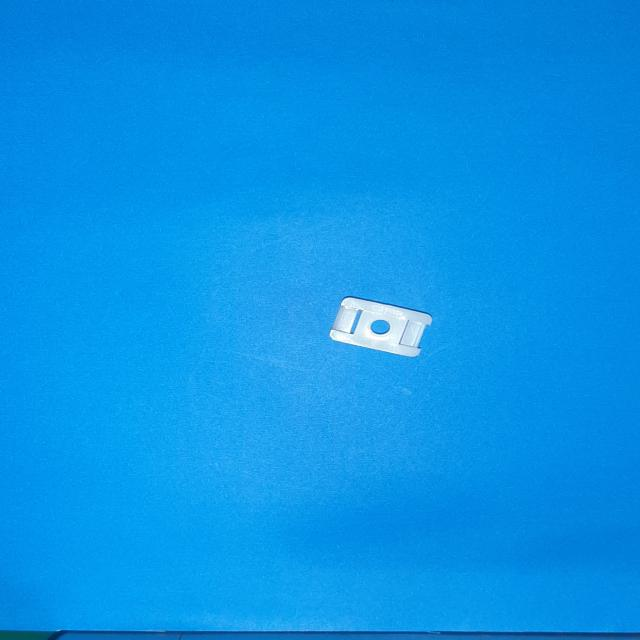false_1: (330, 298, 432, 356)
